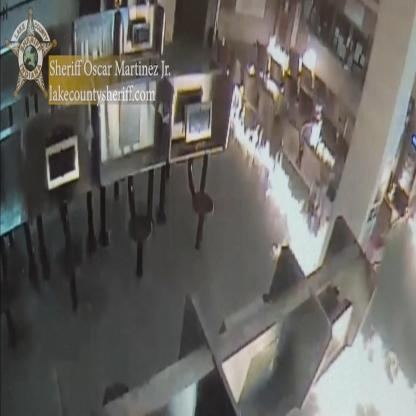fire: (229, 85, 328, 277), (312, 327, 416, 416), (310, 104, 335, 166), (267, 36, 289, 97)
